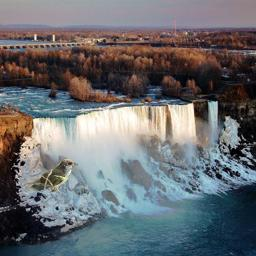Cuckoo: (22, 158, 78, 192)
